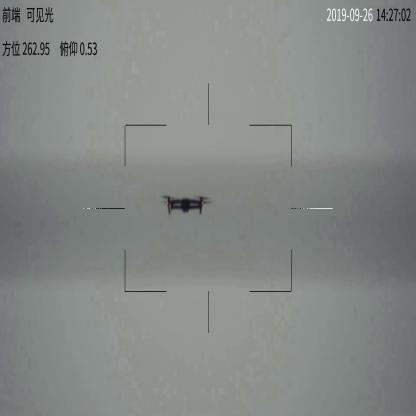uav: (156, 192, 210, 218)
